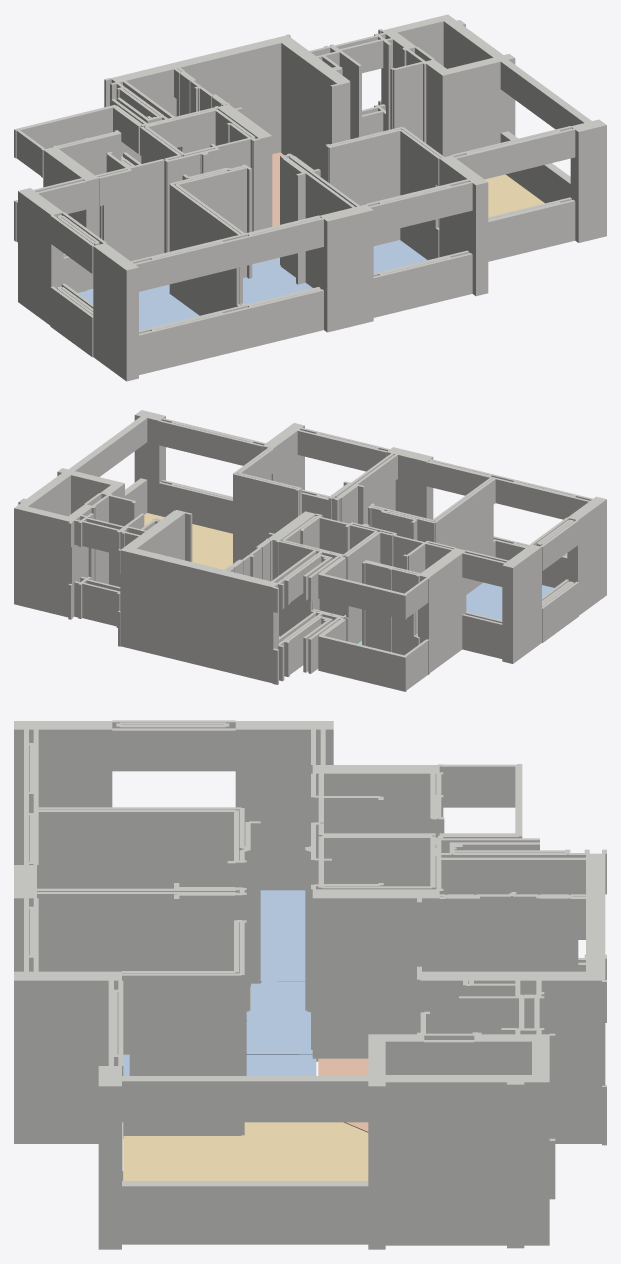
3 renders of one model, top to bottom at view 1: azimuth 30°, elevation 25°; view 2: azimuth 150°, elevation 25°; view 3: azimuth 270°, elevation 25°, orthographic. The views are drawn at different scales.
Visible parts, largest first — view 1: walls, room:bedroom:1, room:bedroom:6, room:living:3, room:bedroom:2, room:kitchen:7; view 2: walls, room:living:3, room:bedroom:6; view 3: walls, room:living:3, room:bedroom:1, room:bedroom:6, room:bedroom:2, room:kitchen:7.
Boxes of the visible parts, <box> form: walls: <box>14,14,606,381</box>; room:bedroom:1: <box>243,257,312,304</box>; room:bedroom:6: <box>78,284,199,330</box>; room:living:3: <box>485,174,544,217</box>; room:bedroom:2: <box>373,240,427,273</box>; room:kitchen:7: <box>272,152,284,226</box>; walls: <box>14,410,606,691</box>; room:living:3: <box>144,513,232,569</box>; room:bedroom:6: <box>466,582,553,620</box>; walls: <box>14,720,606,1249</box>; room:living:3: <box>123,1122,368,1180</box>; room:bedroom:1: <box>246,981,312,1054</box>; room:bedroom:6: <box>260,890,305,982</box>; room:bedroom:2: <box>123,1054,316,1075</box>; room:kitchen:7: <box>318,1058,368,1132</box>.
Bounding box in the file's own units: 13.46 × 2.8 × 9.21.
